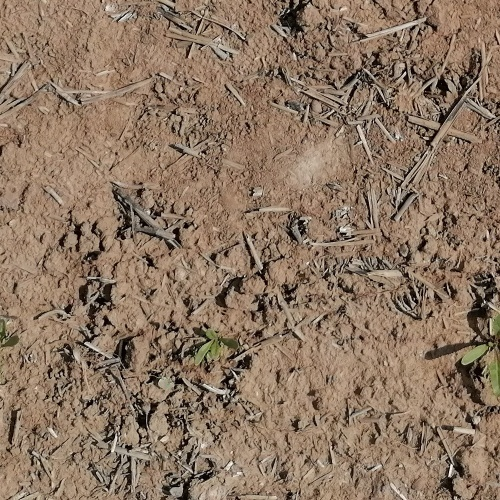beet: (463, 313, 500, 401), (194, 323, 238, 364)
